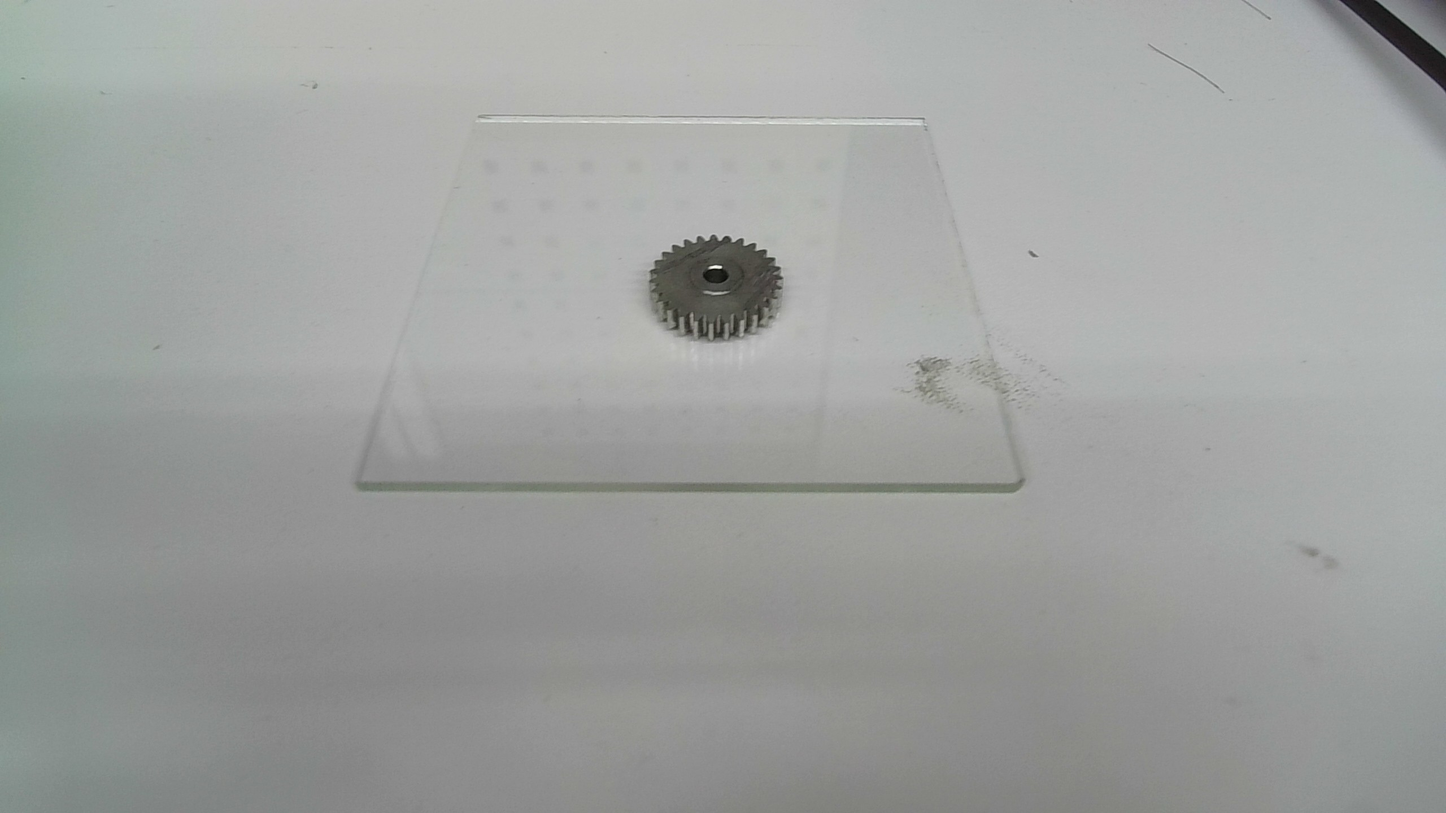gear: (645, 234, 787, 344)
